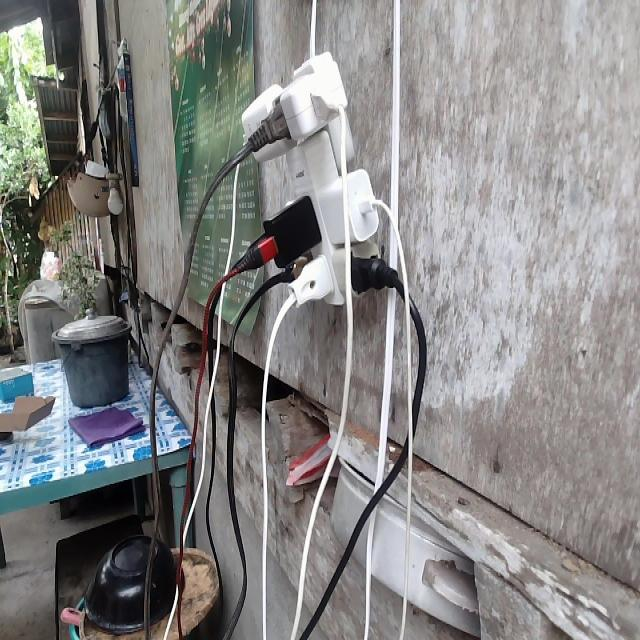-: (232, 52, 398, 309)
